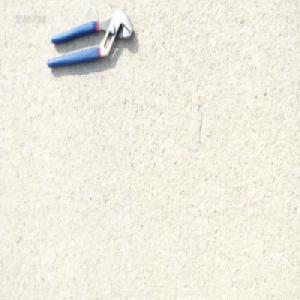Pliers: (45, 7, 134, 69)
